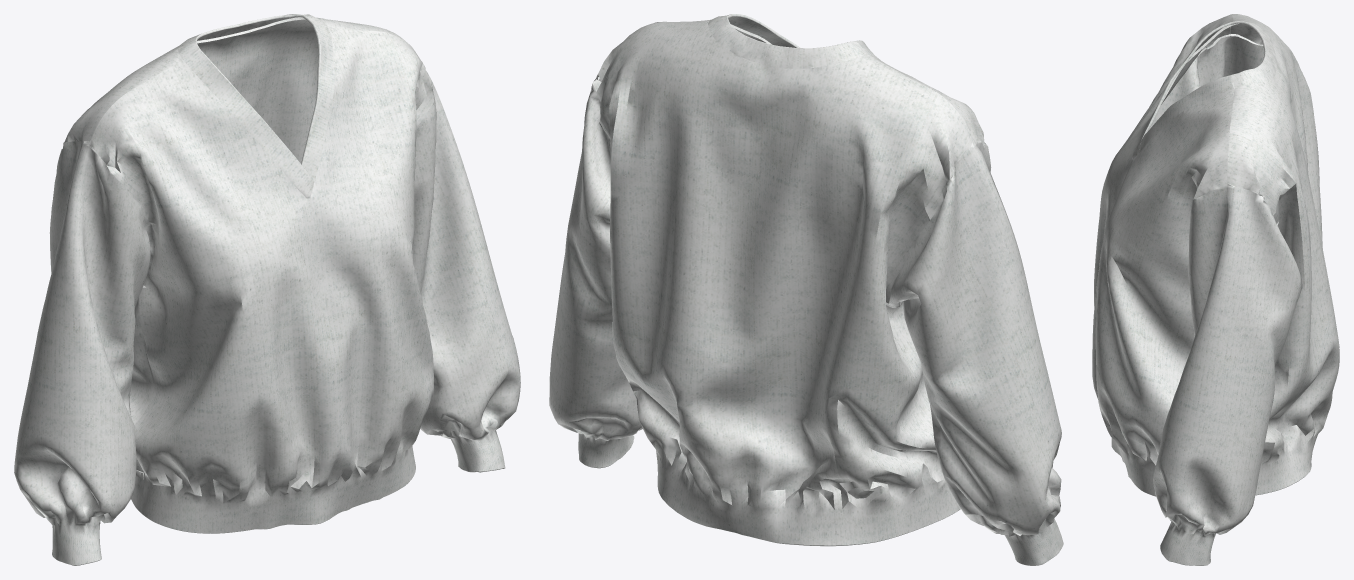
Rendered from blusa feminina.glb.
The picture shows the model from 3 angles, left to right: view 1: azimuth 30°, elevation 25°; view 2: azimuth 150°, elevation 25°; view 3: azimuth 270°, elevation 25°; orthographic projection. The views are drawn at different scales.
Parts seen in each view (by area): view 1: Design_Piece_mat_6_Outside, Design_Piece_mat_4_Outside, Design_Piece_mat_3_Outside, Design_Piece_mat_2_Outside, Design_Piece_mat_5_Outside, Design_Piece_mat_0_Outside, Design_Piece_mat_1_Outside; view 2: Design_Piece_mat_2_Outside, Design_Piece_mat_4_Outside, Design_Piece_mat_3_Outside, Design_Piece_mat_1_Outside, Design_Piece_mat_6_Outside, Design_Piece_mat_0_Outside; view 3: Design_Piece_mat_6_Outside, Design_Piece_mat_3_Outside, Design_Piece_mat_2_Outside, Design_Piece_mat_4_Outside, Design_Piece_mat_0_Outside, Design_Piece_mat_1_Outside, Design_Piece_mat_5_Outside.
Part boxes in pixels (x1=…): Design_Piece_mat_6_Outside: x1=89, y1=26, x2=434, y2=533; Design_Piece_mat_4_Outside: x1=14, y1=141, x2=154, y2=565; Design_Piece_mat_3_Outside: x1=412, y1=71, x2=520, y2=472; Design_Piece_mat_2_Outside: x1=64, y1=17, x2=405, y2=513; Design_Piece_mat_5_Outside: x1=183, y1=49, x2=313, y2=200; Design_Piece_mat_0_Outside: x1=301, y1=23, x2=334, y2=200; Design_Piece_mat_1_Outside: x1=177, y1=14, x2=326, y2=58; Design_Piece_mat_2_Outside: x1=592, y1=19, x2=974, y2=546; Design_Piece_mat_4_Outside: x1=888, y1=141, x2=1063, y2=565; Design_Piece_mat_3_Outside: x1=549, y1=77, x2=642, y2=468; Design_Piece_mat_1_Outside: x1=708, y1=14, x2=868, y2=68; Design_Piece_mat_6_Outside: x1=654, y1=21, x2=987, y2=510; Design_Piece_mat_0_Outside: x1=728, y1=14, x2=799, y2=47; Design_Piece_mat_6_Outside: x1=1092, y1=14, x2=1233, y2=496; Design_Piece_mat_3_Outside: x1=1153, y1=185, x2=1302, y2=565; Design_Piece_mat_2_Outside: x1=1227, y1=14, x2=1339, y2=495; Design_Piece_mat_4_Outside: x1=1197, y1=34, x2=1264, y2=194; Design_Piece_mat_0_Outside: x1=1139, y1=75, x2=1233, y2=152; Design_Piece_mat_1_Outside: x1=1230, y1=19, x2=1276, y2=88; Design_Piece_mat_5_Outside: x1=1132, y1=22, x2=1234, y2=158.
Size of the model in its own units: 0.5999 by 0.571 by 0.2998.
Materials: 1 (1 with a texture image).
